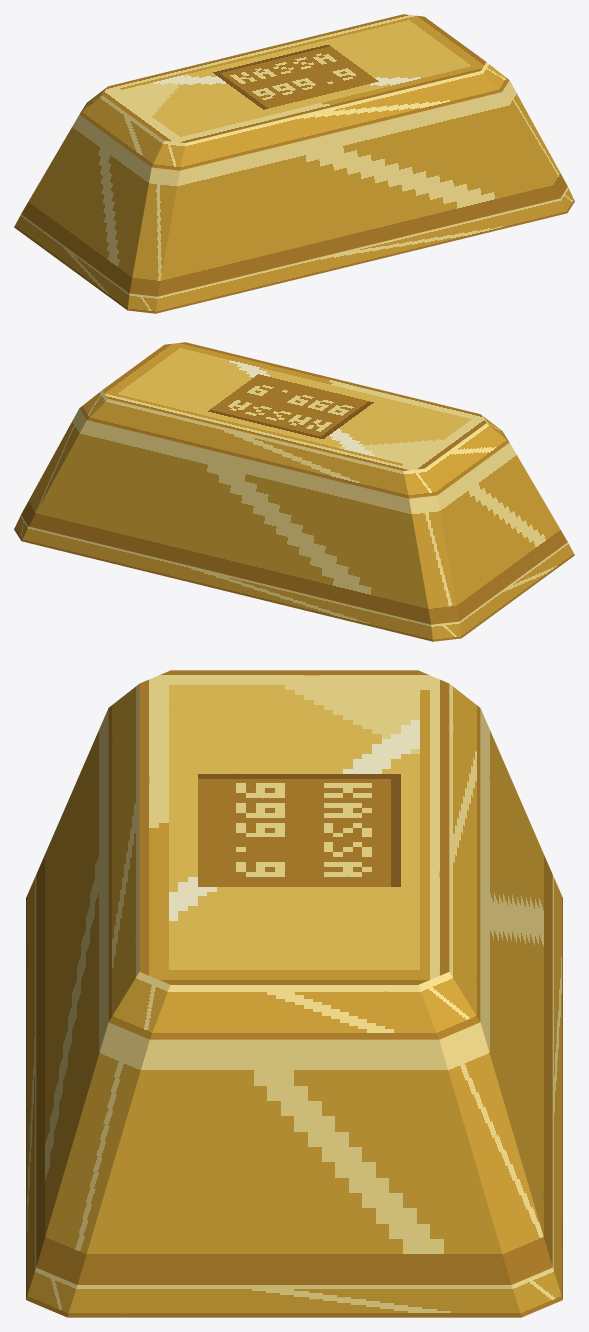
File: play-goldBar.glb
3 views of the same model, one above another, from view 1: azimuth 30°, elevation 25°; view 2: azimuth 150°, elevation 25°; view 3: azimuth 270°, elevation 25° (orthographic). The views are drawn at different scales.
Parts seen in each view (by area): view 1: play.goldBar; view 2: play.goldBar; view 3: play.goldBar.
Boxes of the visible parts, left/top/right/bottom form: play.goldBar: left=14, top=14, right=574, bottom=313; play.goldBar: left=14, top=342, right=574, bottom=641; play.goldBar: left=26, top=670, right=562, bottom=1317.
Bounding box in the file's own units: 1.77 × 0.5131 × 0.9201.
2 materials, 2 textured.
